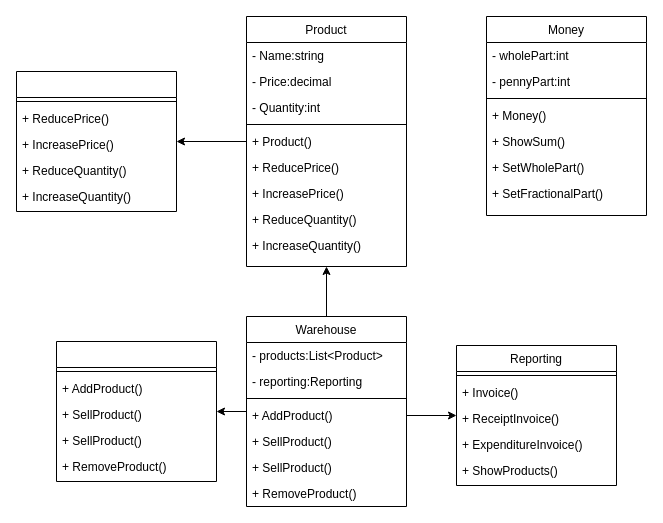
This 663x523 diagram has some shape labels left out. The shapes that lost their labels are listed below. From the top down, each one's box as (x1, y1, x2, y2) in pixels, then its label:
(16, 70, 176, 212): IProduct
(56, 340, 216, 482): IWarehouse
